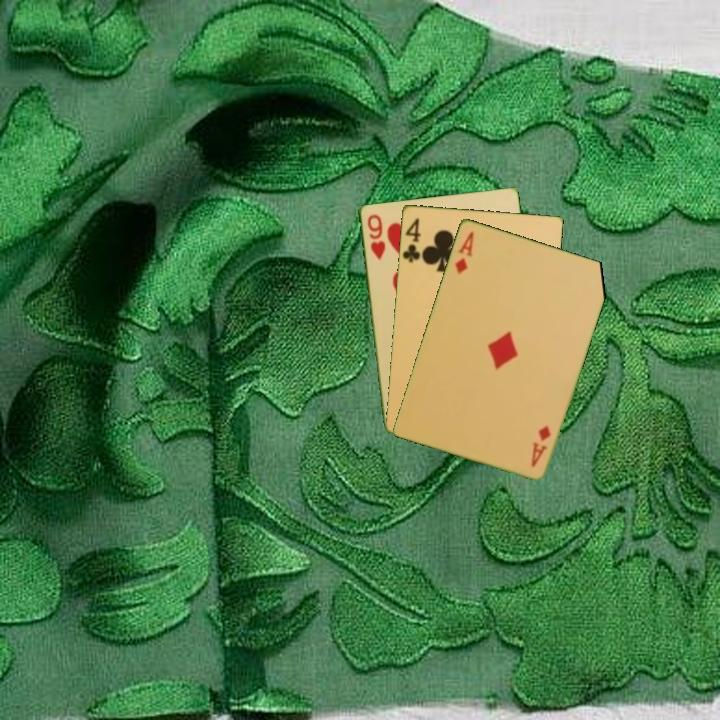4c: (399, 215, 423, 265)
9h: (363, 210, 388, 263)
Ad: (451, 227, 477, 277), (527, 421, 553, 469)
